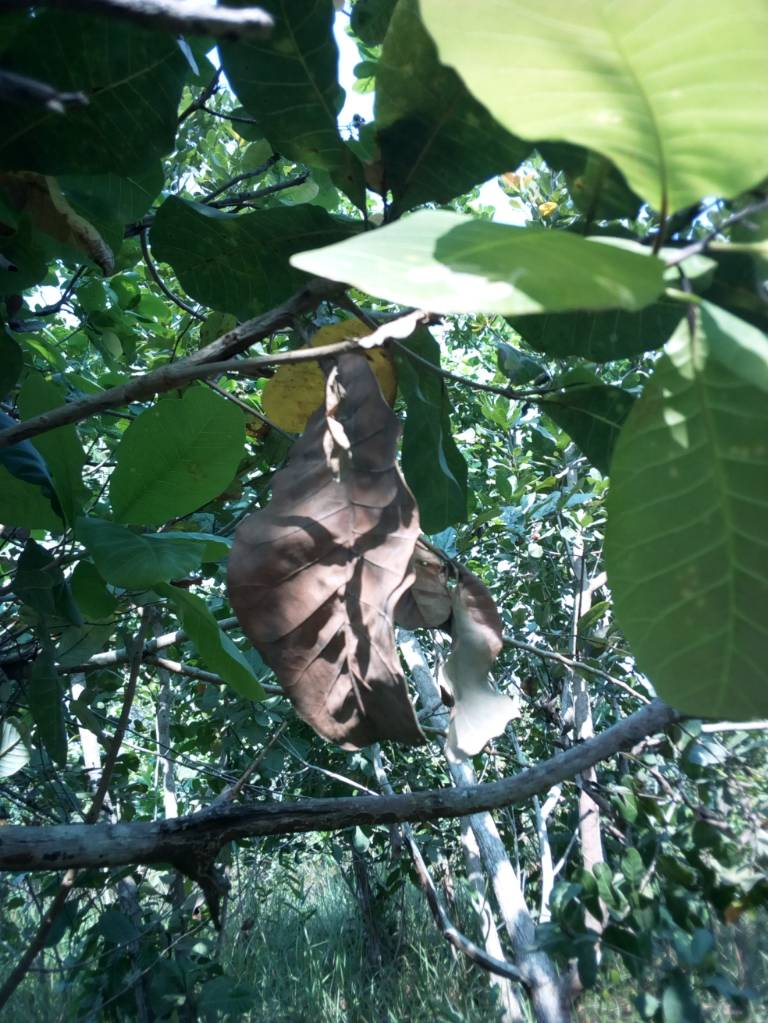Alternariose: (608, 316, 763, 717), (146, 200, 354, 305)
